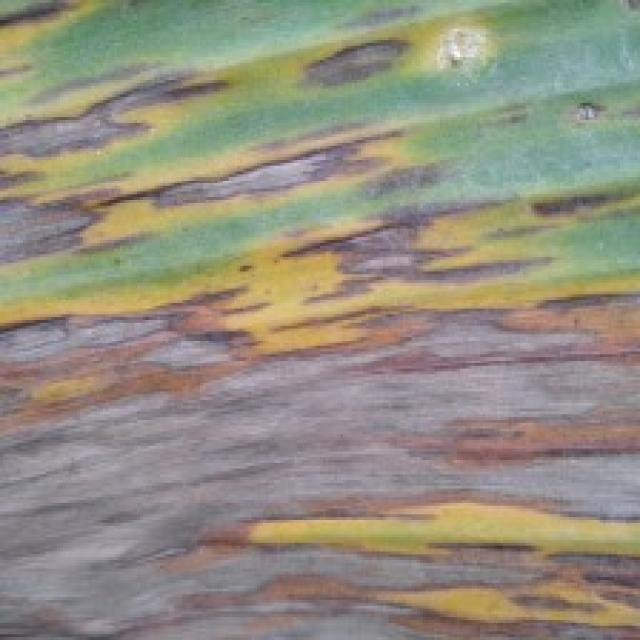Early_leaf_spot: (14, 17, 640, 640), (0, 0, 95, 90)
